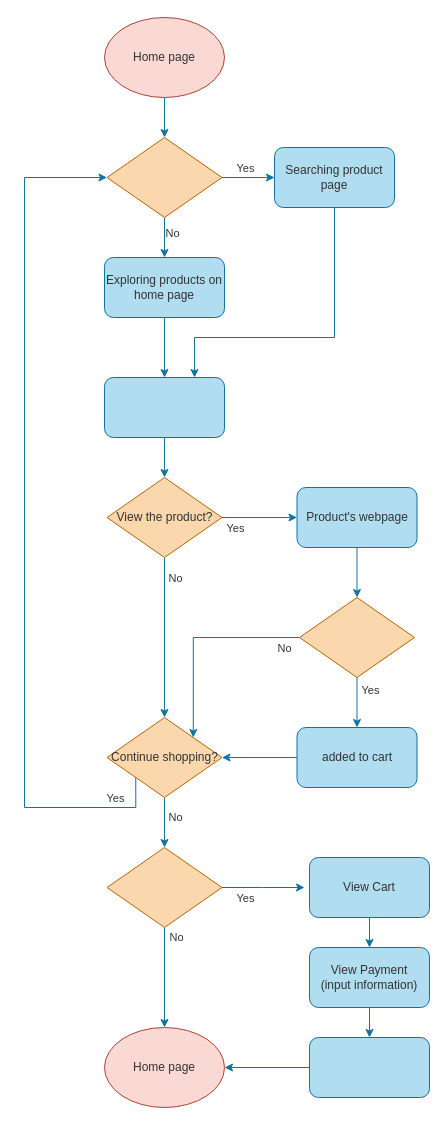
This 447x1125 diagram has some shape labels left out. Each missing label, with the centre of its shape:
Add to cart?: point 356,637
Chekout?: point 164,887
Looking over products: point 164,407
Order confirmation (receive an email): point 369,1067
Searching?: point 164,177
